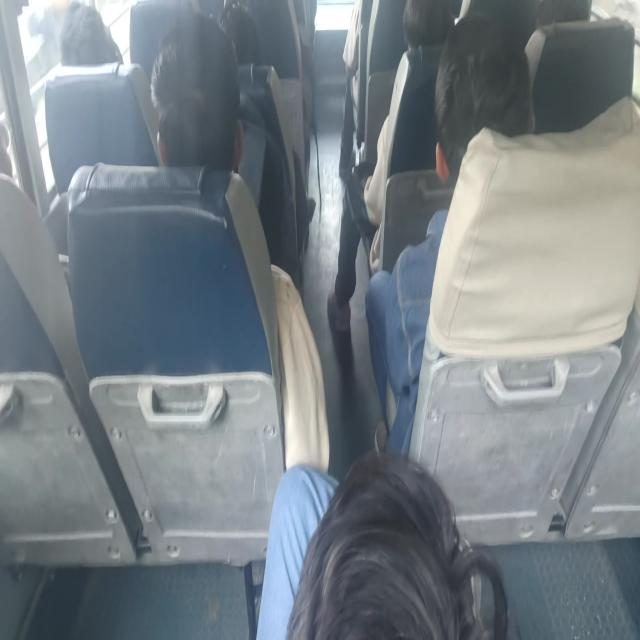person: (149, 12, 330, 470), (364, 13, 536, 456), (256, 450, 508, 638), (326, 0, 454, 334), (149, 12, 244, 172), (58, 1, 124, 66)
